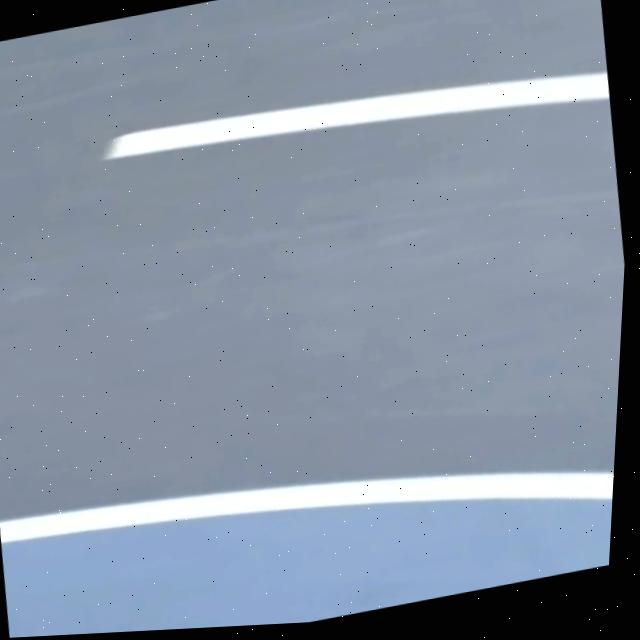center: (104, 73, 610, 160)
left: (0, 473, 614, 545)
